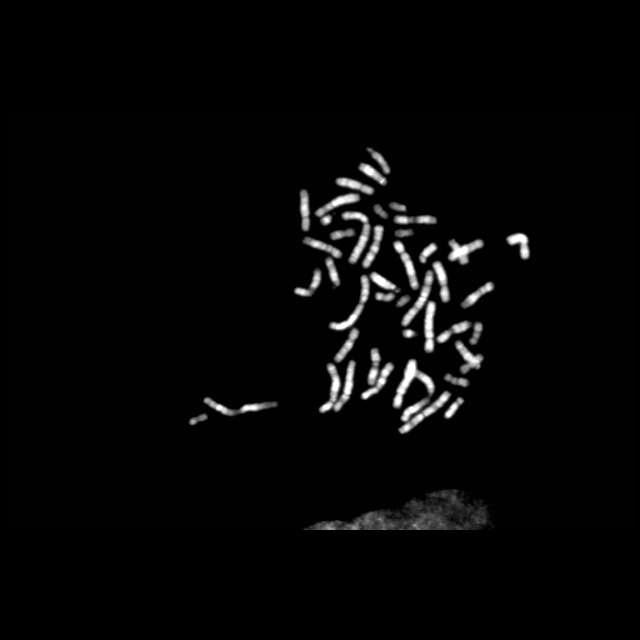chromosome: (329, 275, 368, 331), (398, 392, 449, 434), (401, 367, 435, 421), (400, 270, 432, 326), (342, 211, 371, 263), (204, 396, 278, 416), (393, 241, 419, 291), (362, 362, 394, 398), (334, 359, 356, 411), (314, 193, 360, 217), (394, 360, 416, 408), (320, 363, 340, 413), (334, 327, 360, 363), (362, 226, 384, 268), (302, 237, 342, 260), (460, 283, 494, 309), (437, 320, 471, 344), (448, 238, 484, 260), (295, 268, 321, 298), (431, 262, 449, 304), (454, 342, 482, 368), (507, 230, 531, 260), (358, 162, 388, 184), (335, 178, 373, 195), (366, 147, 390, 173), (370, 272, 400, 292), (424, 302, 436, 352), (366, 346, 380, 386), (449, 238, 469, 264), (394, 214, 436, 226), (298, 190, 310, 230), (460, 354, 484, 374), (324, 259, 340, 287), (419, 242, 437, 264), (445, 396, 463, 418), (444, 372, 470, 386), (330, 227, 354, 241), (469, 322, 483, 346), (376, 290, 396, 302), (374, 204, 388, 220), (190, 414, 208, 426), (394, 228, 414, 238), (397, 293, 411, 307), (402, 327, 416, 339), (321, 212, 332, 225), (389, 202, 406, 210)
